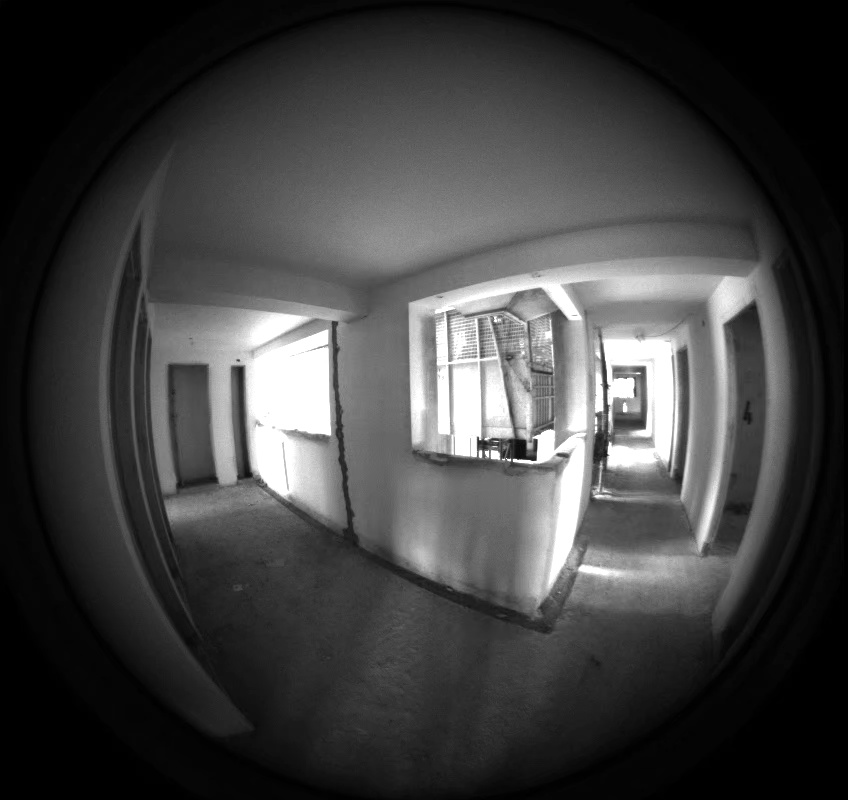Ceiling: (150, 11, 754, 320), (150, 63, 721, 336), (155, 46, 310, 349)
Door: (52, 248, 764, 553), (45, 119, 214, 483)
Floor: (165, 279, 733, 795)
Safety rails: (120, 148, 553, 457)
Wall: (28, 106, 251, 736), (91, 200, 345, 532)
